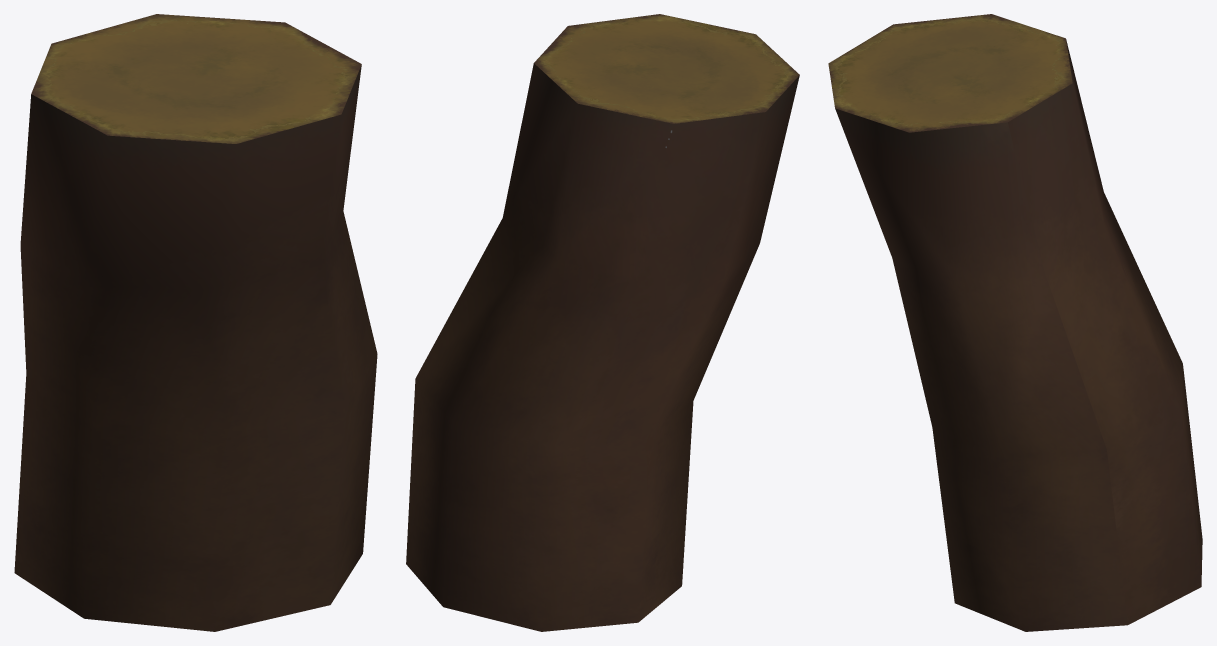
Rendered from Stump.fbx.
3 renders of one model, left to right at view 1: azimuth 30°, elevation 25°; view 2: azimuth 150°, elevation 25°; view 3: azimuth 270°, elevation 25°, orthographic. The views are drawn at different scales.
Parts seen in each view (by area): view 1: Cylinder.118; view 2: Cylinder.118; view 3: Cylinder.118.
Boxes of the visible parts, left/top/right/bottom form: Cylinder.118: left=14, top=14, right=377, bottom=631; Cylinder.118: left=406, top=14, right=799, bottom=631; Cylinder.118: left=828, top=14, right=1202, bottom=631.
Bounding box in the file's own units: 243 × 372 × 264.
